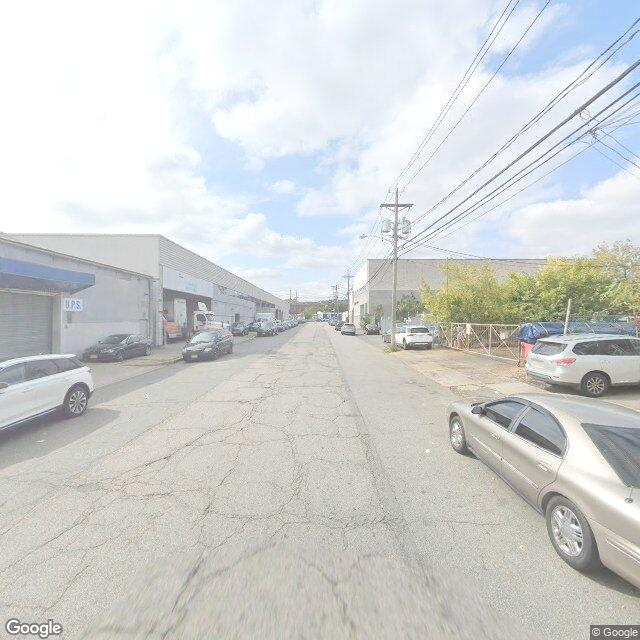pothole: (197, 499, 220, 523), (152, 447, 178, 468)
